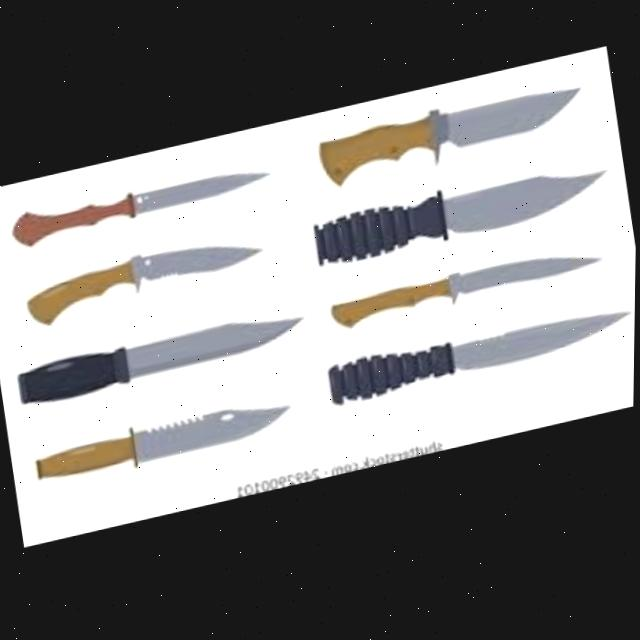Knife: (314, 158, 615, 274), (329, 304, 636, 412), (317, 82, 590, 195), (17, 306, 310, 409), (33, 393, 295, 489), (25, 229, 269, 330), (12, 156, 275, 249), (332, 247, 606, 336)
